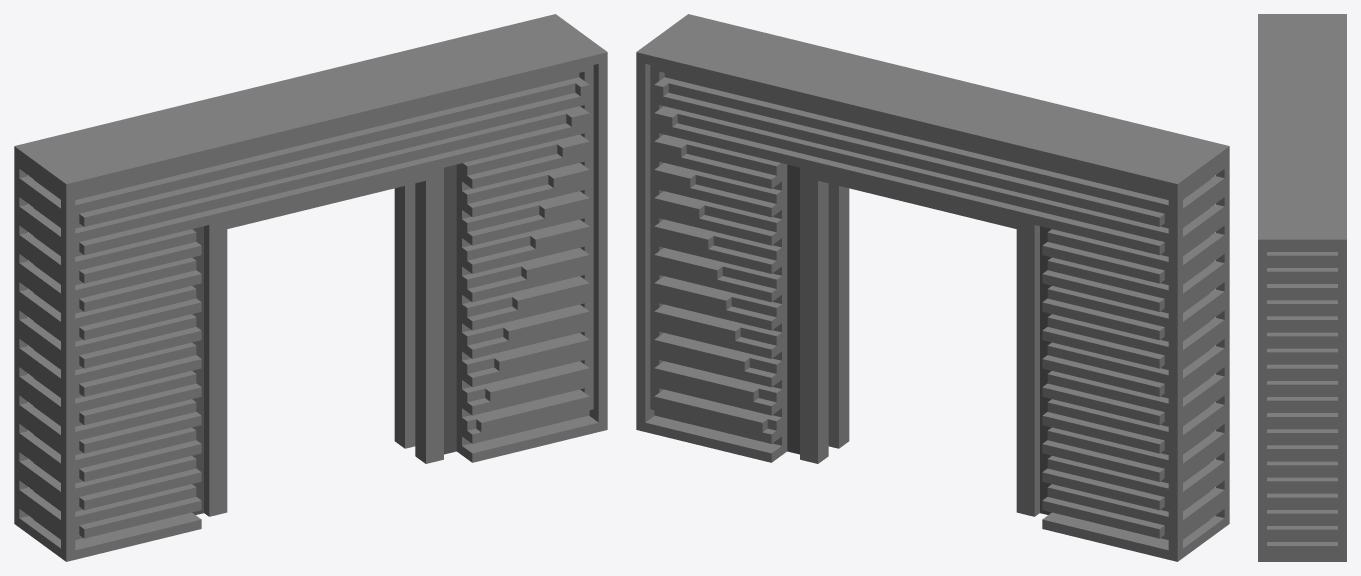
File: Command Doorway.obj
The picture shows the model from 3 angles, left to right: view 1: azimuth 30°, elevation 25°; view 2: azimuth 150°, elevation 25°; view 3: azimuth 270°, elevation 25°; orthographic projection. The views are drawn at different scales.
Size of the model in its own units: 60 by 40 by 10.
1 material, 1 textured.
